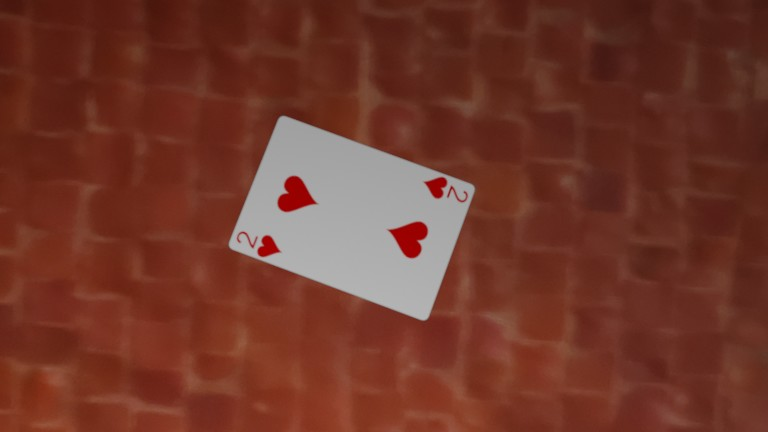2_of_hearts: (92, 89, 114, 106), (167, 68, 189, 84)
